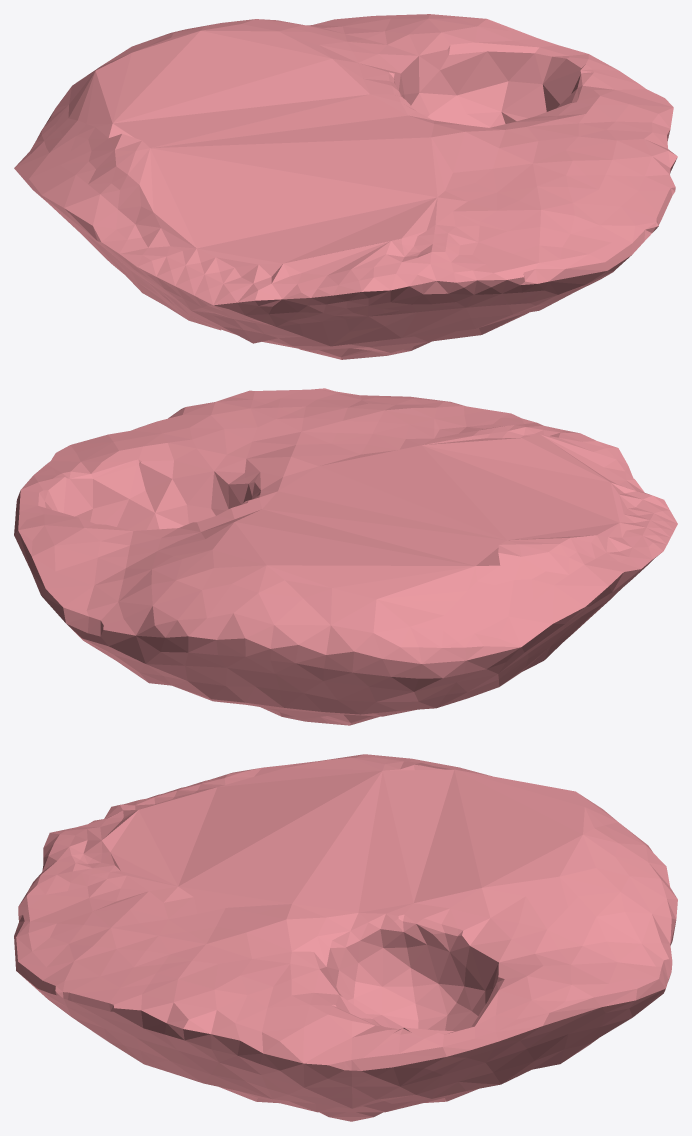
Rendered from huiTerrain1_01(bver).fbx.
3 views of the same model, one above another, from view 1: azimuth 30°, elevation 25°; view 2: azimuth 150°, elevation 25°; view 3: azimuth 270°, elevation 25° (orthographic). The views are drawn at different scales.
Parts seen in each view (by area): view 1: Icosphere; view 2: Icosphere; view 3: Icosphere.
Part boxes in pixels (bbox=[...]): Icosphere: bbox=[14, 14, 677, 359]; Icosphere: bbox=[14, 388, 677, 725]; Icosphere: bbox=[14, 754, 677, 1121].
Size of the model in its own units: 2030 by 836 by 1955.
